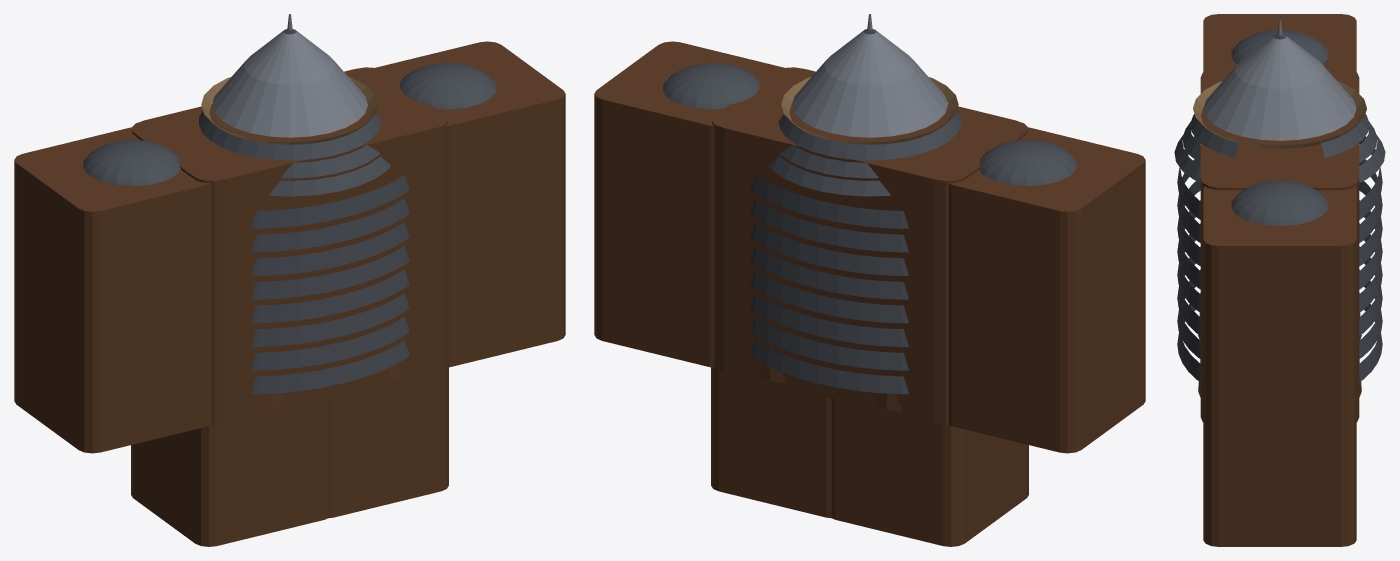
File: mongol.obj
3 renders of one model, left to right at view 1: azimuth 30°, elevation 25°; view 2: azimuth 150°, elevation 25°; view 3: azimuth 270°, elevation 25°, orthographic.
Visible parts, largest first — view 1: under_arm_L, under_torso, under_arm_R, under_leg_L, under_leg_R, duulga_skull, shoulder_L, shoulder_R, duulga_neck_0, lamellar_front_6, lamellar_front_4, lamellar_front_1 (+8 smaller); view 2: under_arm_L, under_torso, under_arm_R, under_leg_L, under_leg_R, duulga_skull, shoulder_L, shoulder_R, duulga_neck_0, lamellar_back_6, lamellar_back_4, lamellar_back_1 (+8 smaller); view 3: under_arm_R, duulga_skull, under_torso, under_leg_R, under_arm_L, shoulder_R, duulga_neck_0, shoulder_L, duulga_fur, duulga_neck_2, duulga_neck_1, lamellar_front_2 (+15 smaller).
Part boxes in pixels (x1,y1,x2,y2): under_arm_L: [14, 127, 211, 453]; under_torso: [132, 67, 447, 424]; under_arm_R: [375, 41, 565, 367]; under_leg_L: [131, 398, 328, 546]; under_leg_R: [328, 367, 448, 518]; duulga_skull: [212, 29, 367, 137]; shoulder_L: [83, 139, 180, 186]; shoulder_R: [400, 63, 496, 109]; duulga_neck_0: [199, 111, 381, 160]; lamellar_front_6: [251, 317, 409, 370]; lamellar_front_4: [251, 269, 409, 323]; lamellar_front_1: [251, 198, 409, 252]; under_arm_L: [948, 127, 1145, 453]; under_torso: [712, 67, 1027, 424]; under_arm_R: [594, 41, 784, 367]; under_leg_L: [831, 398, 1028, 546]; under_leg_R: [711, 367, 831, 518]; duulga_skull: [792, 29, 947, 137]; shoulder_L: [979, 139, 1076, 186]; shoulder_R: [663, 63, 759, 109]; duulga_neck_0: [778, 111, 960, 160]; lamellar_back_6: [750, 317, 908, 370]; lamellar_back_4: [750, 269, 908, 323]; lamellar_back_1: [750, 198, 908, 252]; under_arm_R: [1203, 186, 1356, 482]; duulga_skull: [1203, 34, 1356, 140]; under_torso: [1200, 67, 1359, 421]; under_leg_R: [1203, 477, 1356, 546]; under_arm_L: [1203, 14, 1356, 71]; shoulder_R: [1231, 180, 1328, 225]; duulga_neck_0: [1190, 114, 1369, 157]; shoulder_L: [1231, 30, 1328, 64]; duulga_fur: [1193, 81, 1366, 149]; duulga_neck_2: [1174, 126, 1385, 182]; duulga_neck_1: [1182, 121, 1377, 163]; lamellar_front_2: [1177, 181, 1200, 266].
Size of the model in its own units: 4.16 by 3.91 by 1.6.
